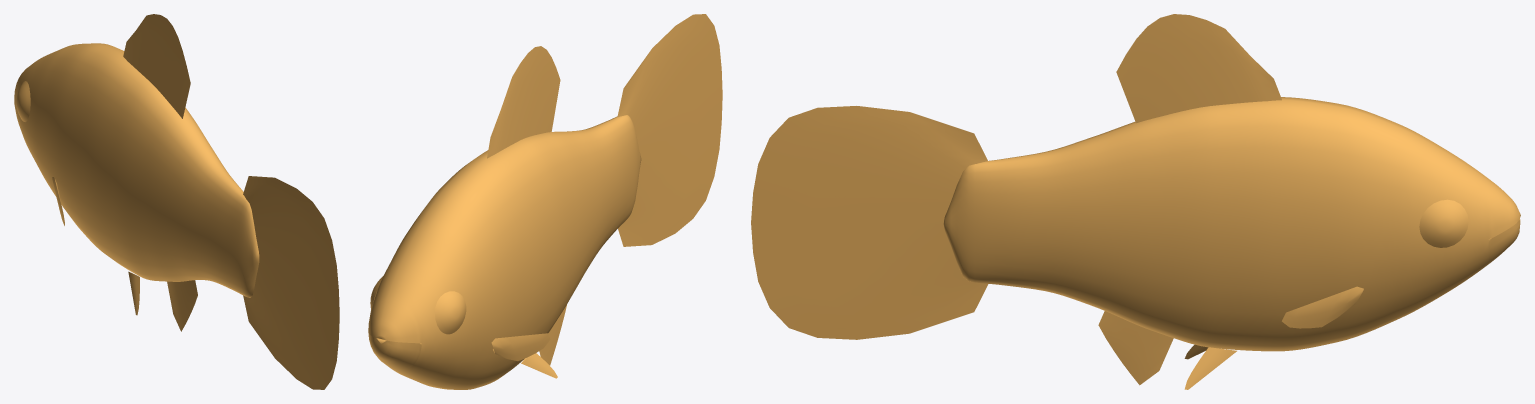
The model's file is platy.glb.
3 views of the same model, side by side, from view 1: azimuth 30°, elevation 25°; view 2: azimuth 150°, elevation 25°; view 3: azimuth 270°, elevation 25° (orthographic). The views are drawn at different scales.
Parts seen in each view (by area): view 1: platy; view 2: platy; view 3: platy.
Boxes of the visible parts, x1,y1,x2,y2 form: platy: (14,14,339,389); platy: (368,14,722,389); platy: (751,14,1520,389).
Size of the model in its own units: 0.0107 by 0.0266 by 0.05.
